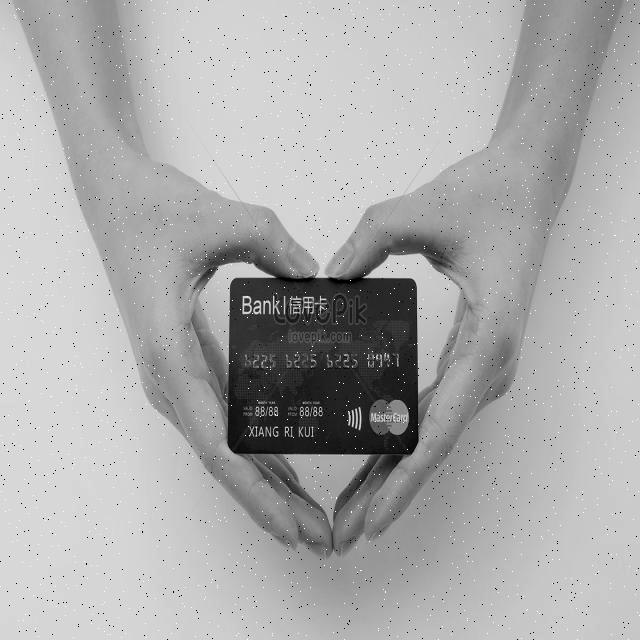card: (229, 277, 419, 455)
